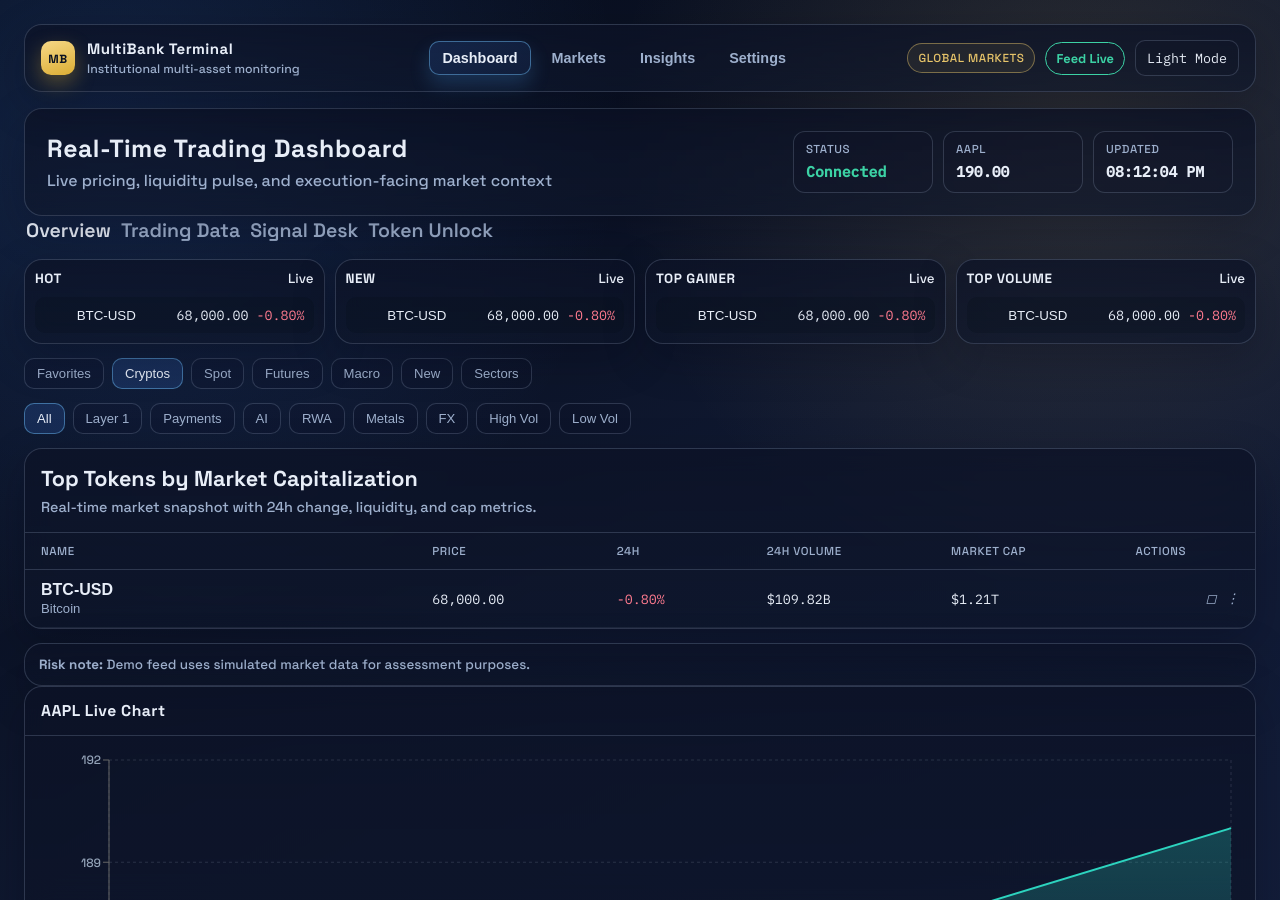
App navigation sections › renders dashboard by default and switches to other sections
expect the heading "Real-Time Trading Dashboard" is shown: met, box x1=47 y1=133 x2=408 y2=164
Click the tab "Markets": (579,58) x1=539 y1=41 x2=619 y2=75
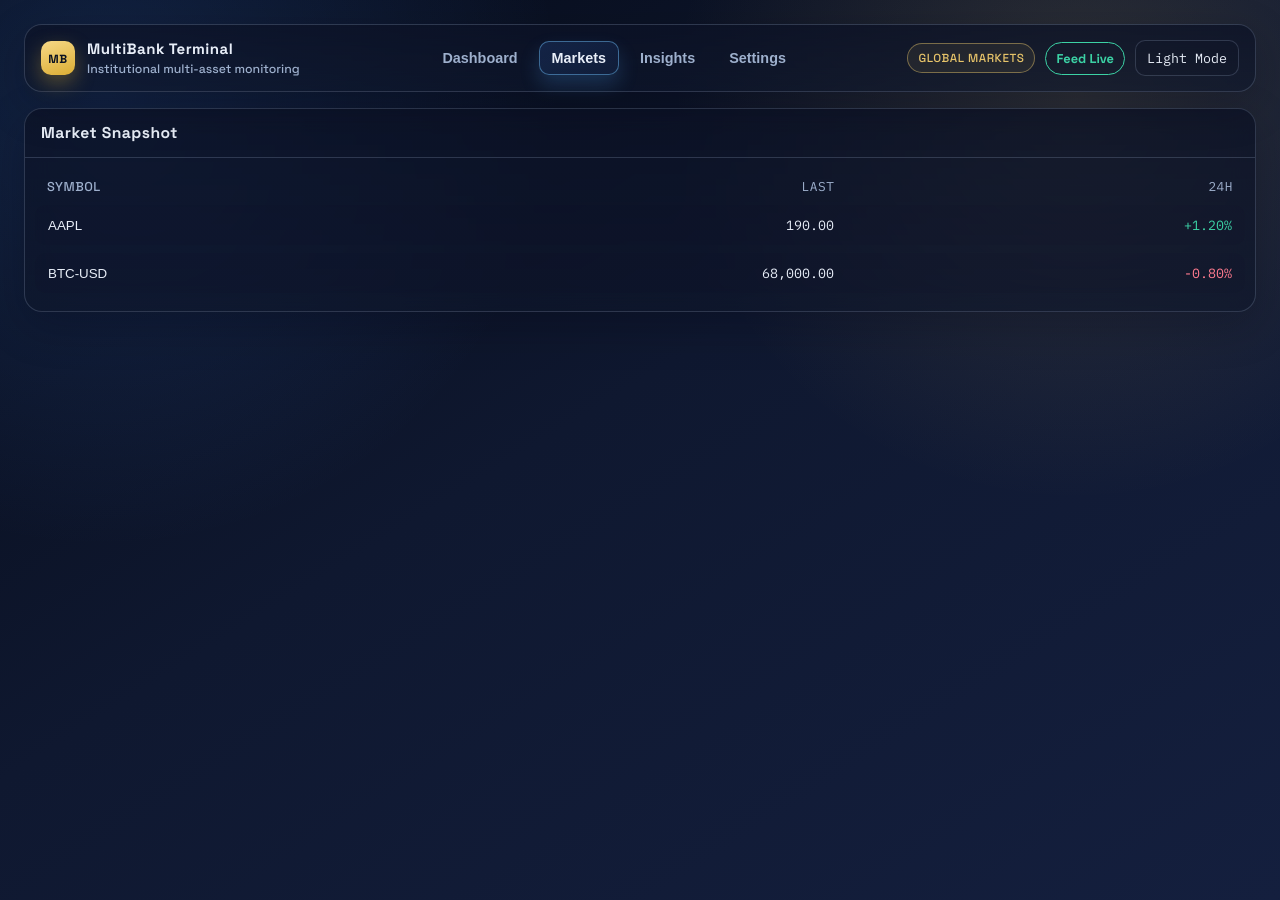
expect the heading "Market Snapshot" is shown: met, box x1=41 y1=123 x2=178 y2=143
Click the tab "Insights": (668,58) x1=627 y1=41 x2=708 y2=75
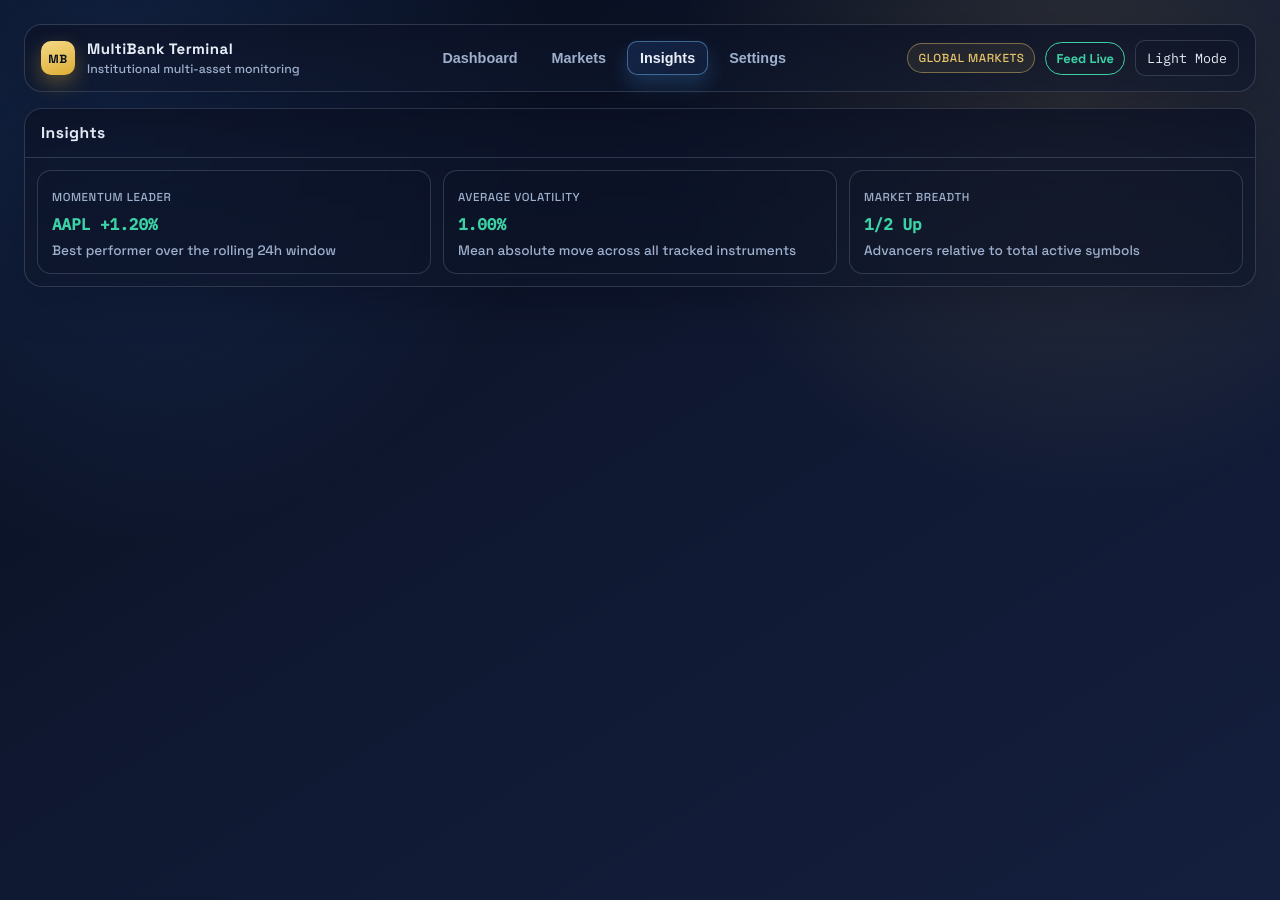
expect the heading "Insights" is shown: met, box x1=41 y1=123 x2=106 y2=143
Click the tab "Settings": (758,58) x1=716 y1=41 x2=799 y2=75
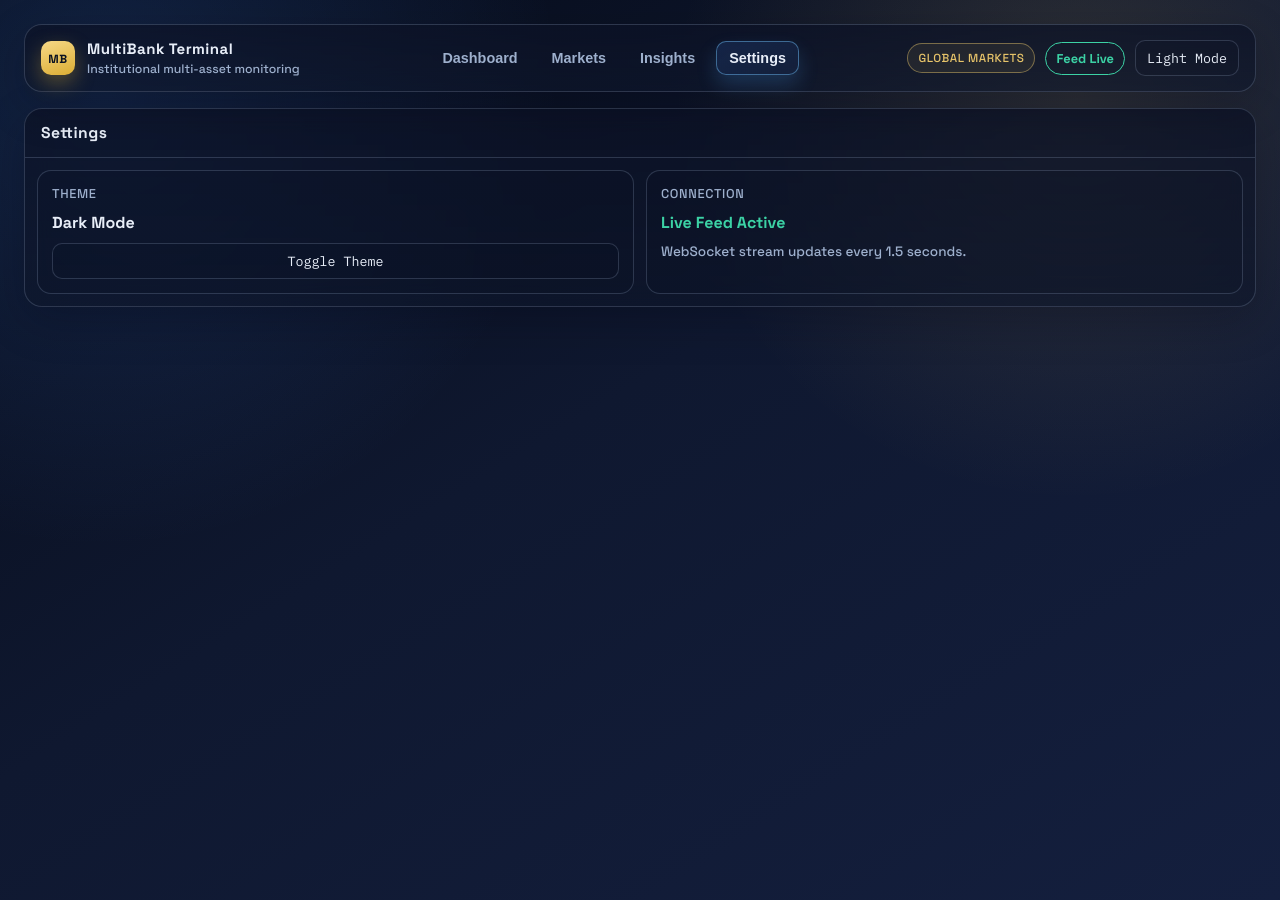
expect the heading "Settings" is shown: met, box x1=41 y1=123 x2=107 y2=143
